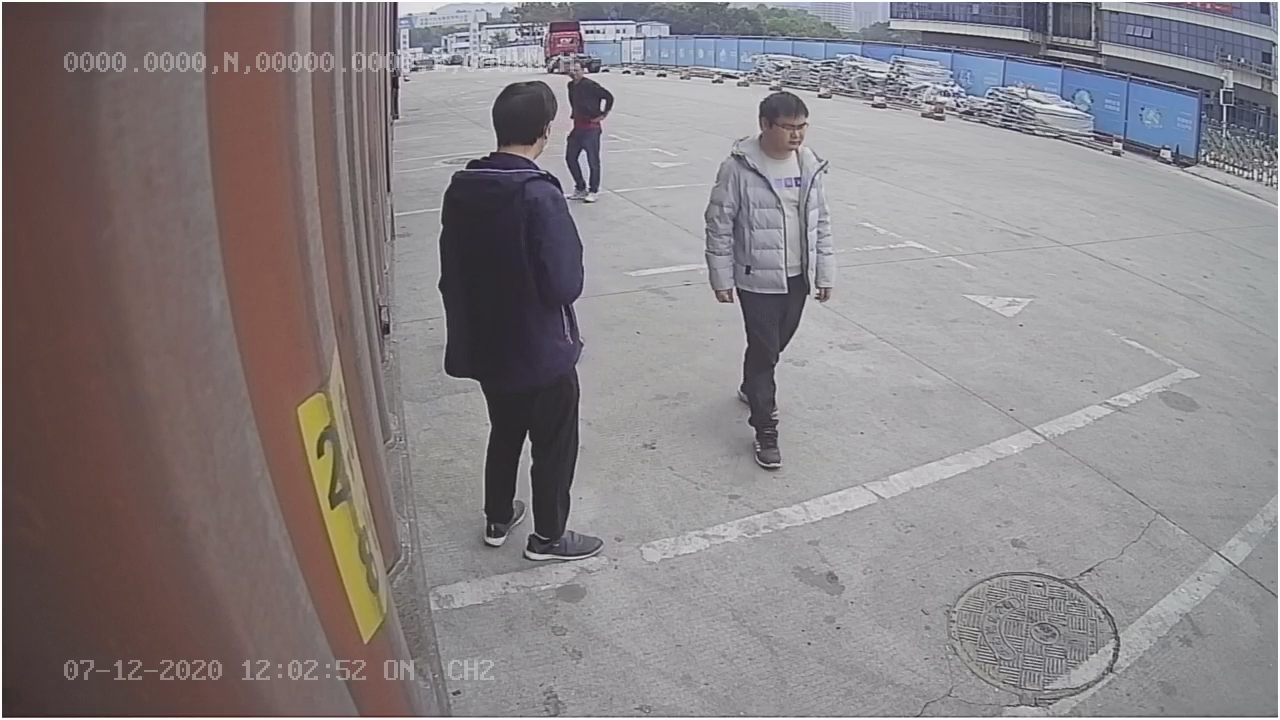person: (705, 88, 836, 467)
